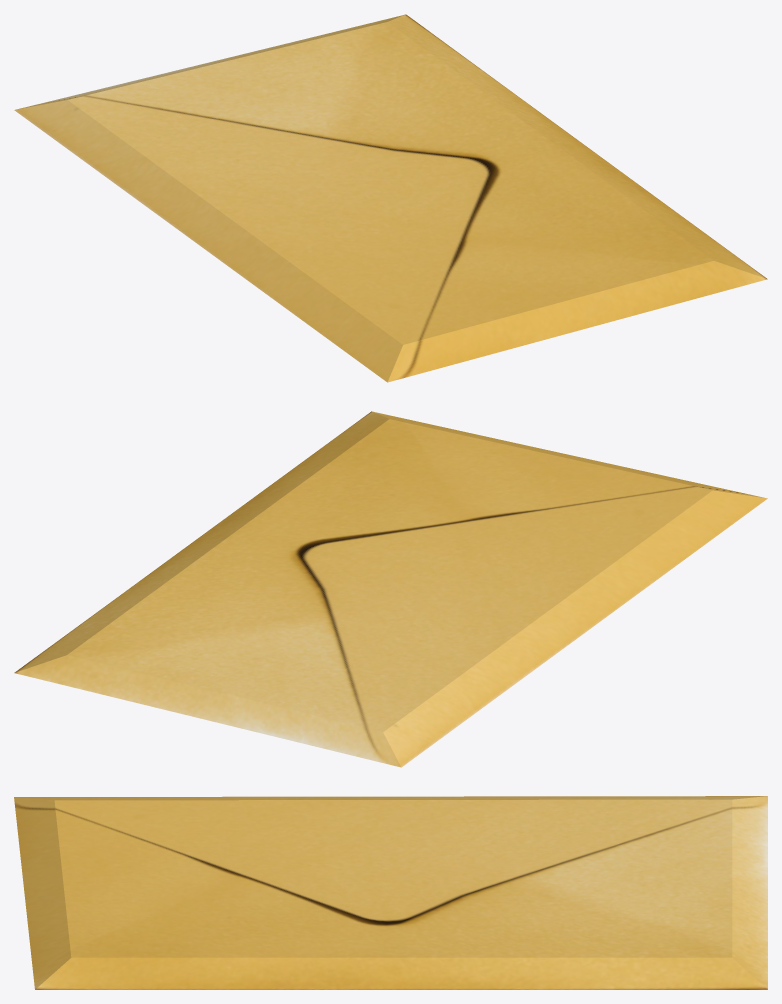
Rendered from letter.glb.
3 views of the same model, one above another, from view 1: azimuth 30°, elevation 25°; view 2: azimuth 150°, elevation 25°; view 3: azimuth 270°, elevation 25° (orthographic). The views are drawn at different scales.
Visible parts, largest first — view 1: Cube; view 2: Cube; view 3: Cube.
Part boxes in pixels (x1,y1,x2,y2): Cube: [14, 14, 767, 382]; Cube: [14, 411, 767, 767]; Cube: [14, 796, 767, 989].
Bounding box in the file's own units: 2.45 × 0.1704 × 4.03.
1 material, 1 textured.
